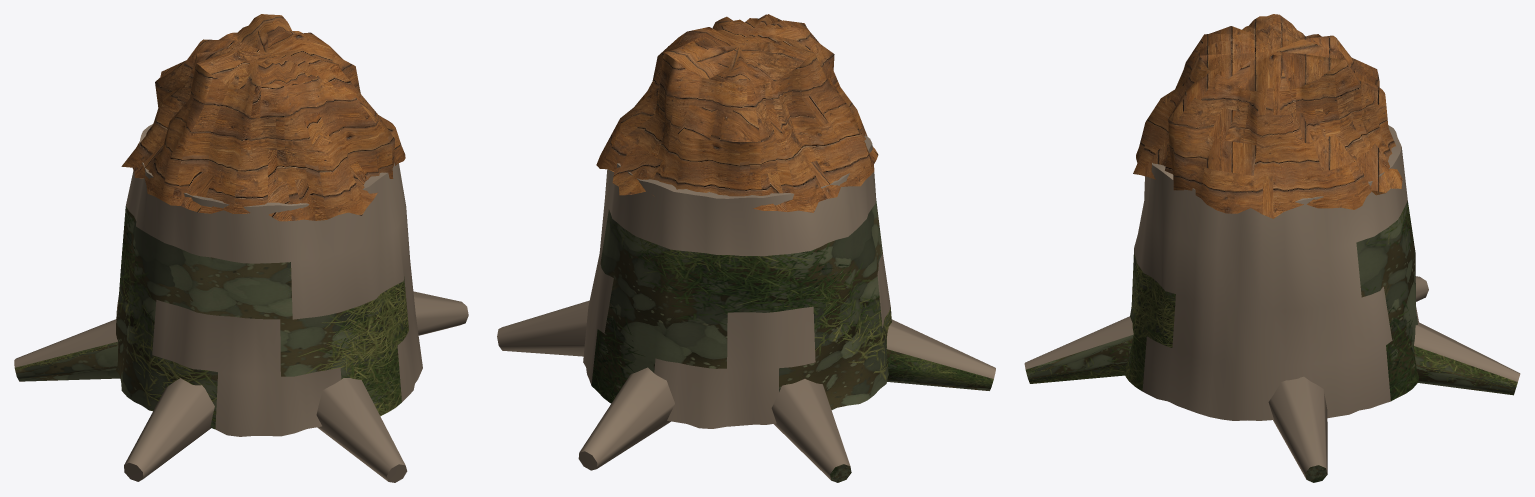
File: stump-v01.glb
3 views of the same model, side by side, from view 1: azimuth 30°, elevation 25°; view 2: azimuth 150°, elevation 25°; view 3: azimuth 270°, elevation 25° (orthographic). The views are drawn at different scales.
Visible parts, largest first — view 1: stump; view 2: stump; view 3: stump.
Boxes of the visible parts, x1,y1,x2,y2 form: stump: [14, 14, 468, 482]; stump: [497, 14, 995, 482]; stump: [1024, 14, 1520, 482].
Size of the model in its own units: 1.92 by 1.54 by 2.03.
3 materials, 2 textured.
